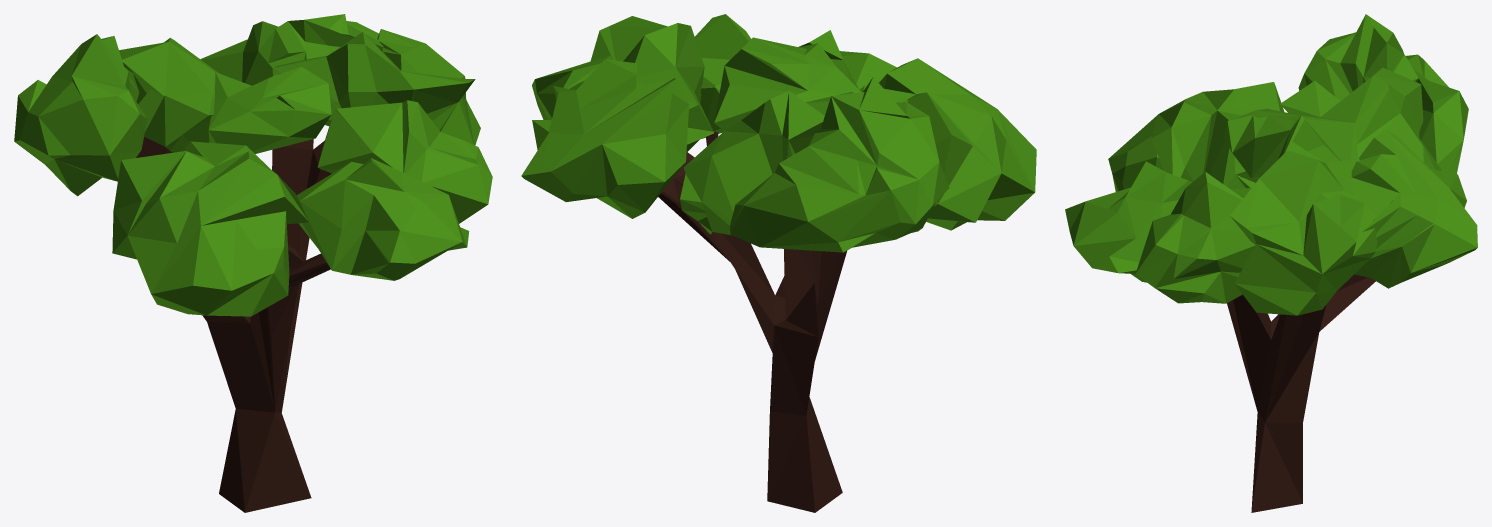
Rendered from tree.fbx.
3 renders of one model, left to right at view 1: azimuth 30°, elevation 25°; view 2: azimuth 150°, elevation 25°; view 3: azimuth 270°, elevation 25°, orthographic. The views are drawn at different scales.
Visible parts, largest first — view 1: default; view 2: default; view 3: default.
Boxes of the visible parts, x1,y1,x2,y2 form: default: [14, 14, 492, 512]; default: [521, 14, 1036, 512]; default: [1065, 14, 1477, 512].
Size of the model in its own units: 1.65 by 1.74 by 1.52.
